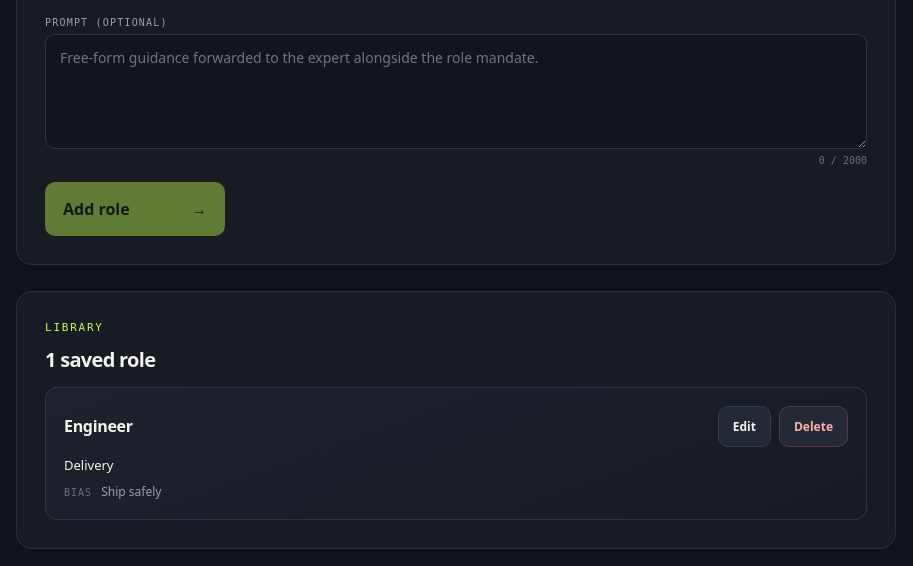
Settings › confirms deletion and removes a role after a 204
The image size is (913, 566).
(page scrolled)
Expected: the text "Engineer" is shown, [64, 415, 133, 437]
Step 1. Click the button "Delete" → (814, 426), box [779, 406, 848, 447]
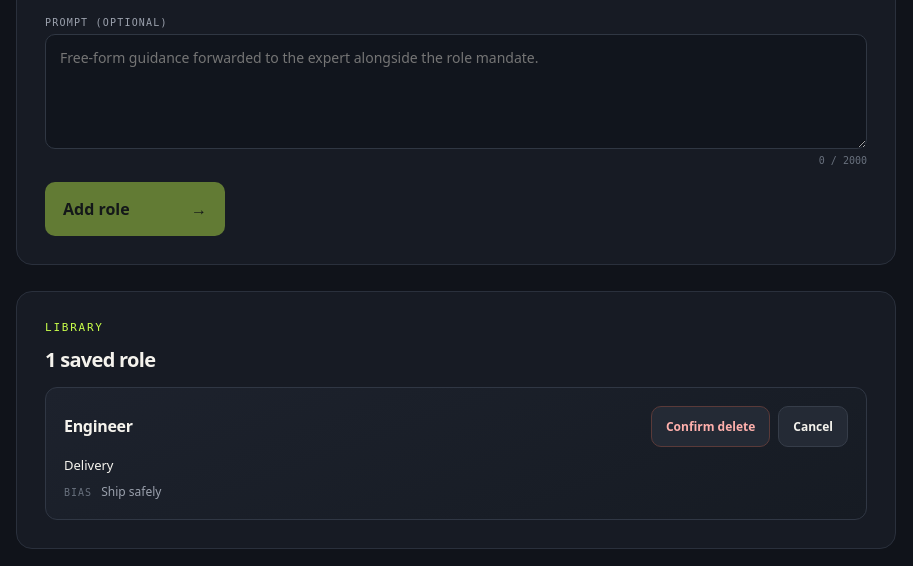
Expected: the button "Confirm delete" is shown
Step 2. Click the button "Confirm delete" → (711, 426), box [651, 406, 770, 447]
(page scrolled)
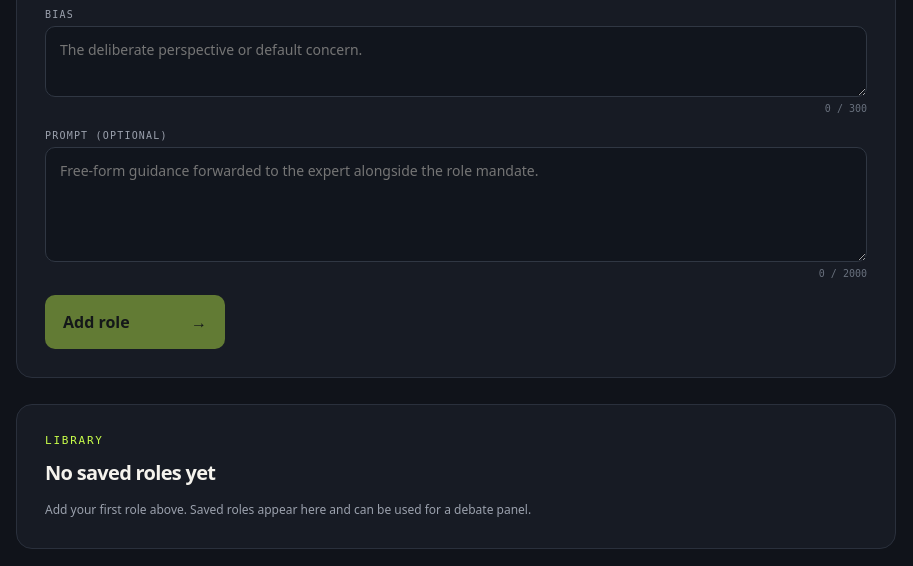
Expected: the text "Engineer" is gone
